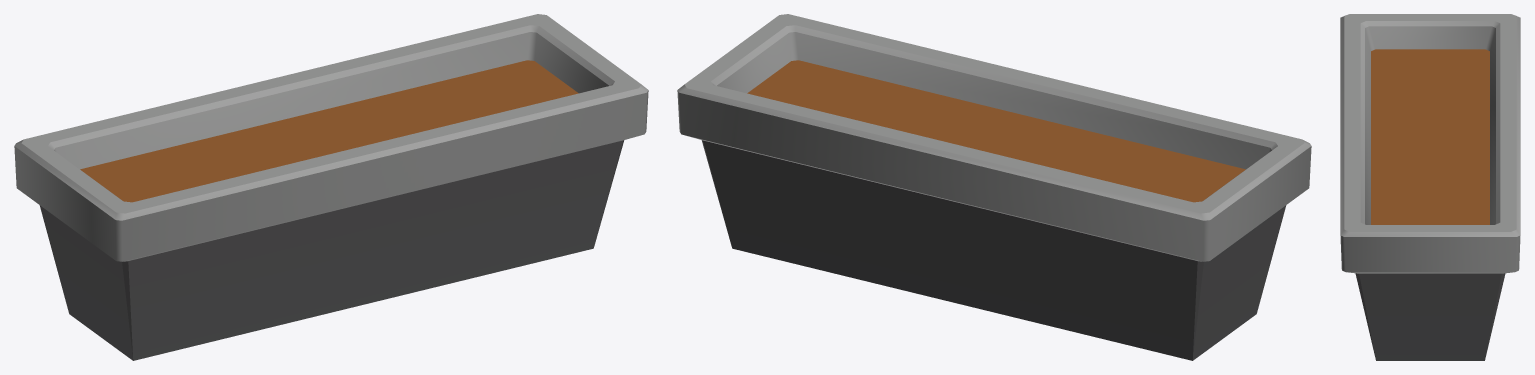
File: PlantPot_3_B.glb
3 renders of one model, left to right at view 1: azimuth 30°, elevation 25°; view 2: azimuth 150°, elevation 25°; view 3: azimuth 270°, elevation 25°, orthographic. The views are drawn at different scales.
Parts seen in each view (by area): view 1: PlantPot_3_B; view 2: PlantPot_3_B; view 3: PlantPot_3_B.
Part boxes in pixels (x1,y1,x2,y2): PlantPot_3_B: (14,14,648,360); PlantPot_3_B: (677,14,1311,360); PlantPot_3_B: (1340,14,1520,360).
Size of the model in its own units: 0.7988 by 0.24 by 0.2748.
Materials: 1 (1 with a texture image).
